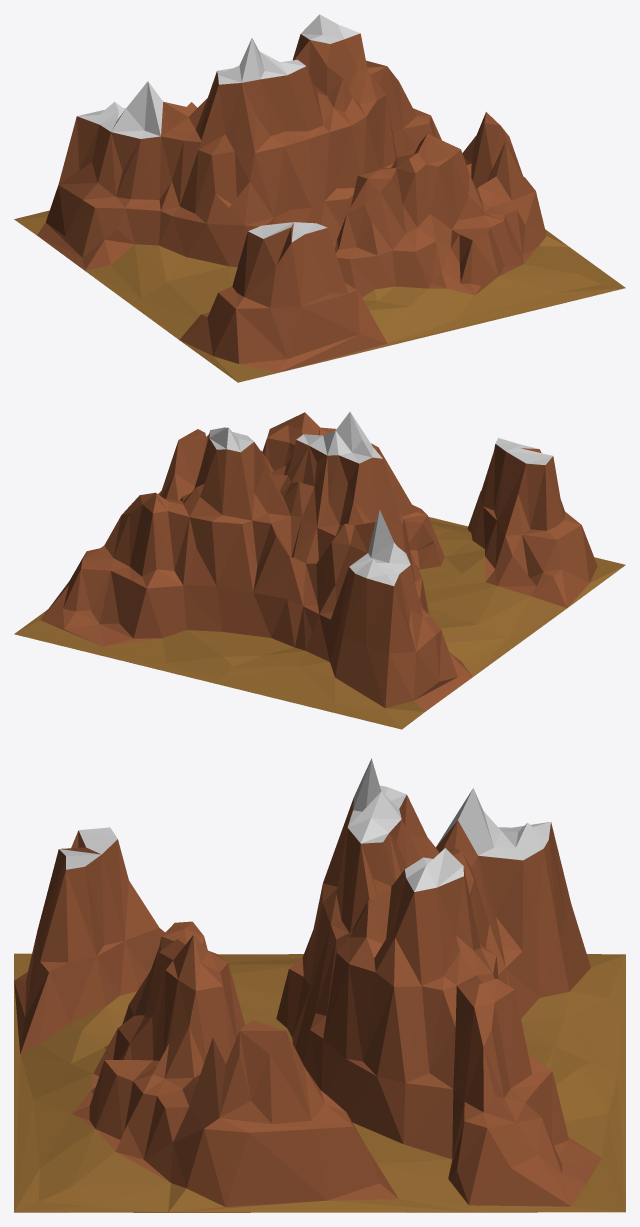
File: Mountain04.fbx
3 views of the same model, one above another, from view 1: azimuth 30°, elevation 25°; view 2: azimuth 150°, elevation 25°; view 3: azimuth 270°, elevation 25° (orthographic). The views are drawn at different scales.
Parts seen in each view (by area): view 1: Mountain04; view 2: Mountain04; view 3: Mountain04.
Part boxes in pixels (left/top/right/bottom): Mountain04: left=14, top=14, right=625, bottom=382; Mountain04: left=14, top=412, right=625, bottom=729; Mountain04: left=14, top=758, right=625, bottom=1212.
Bounding box in the file's own units: 18000 × 9515 × 18000.
